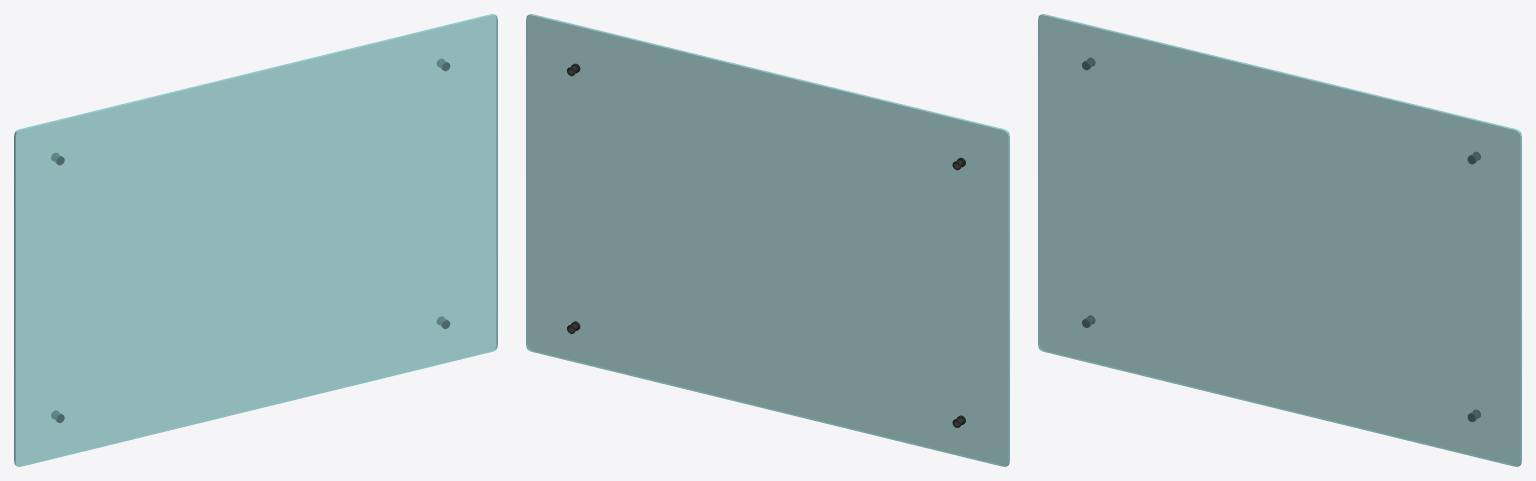
The model's file is WallWrittingBoard.FBX.
3 renders of one model, left to right at view 1: azimuth 30°, elevation 25°; view 2: azimuth 150°, elevation 25°; view 3: azimuth 330°, elevation 25°, orthographic.
Parts seen in each view (by area): view 1: WallWrittingBoard; view 2: WallWrittingBoard; view 3: WallWrittingBoard.
Part boxes in pixels (x1,y1,x2,y2): WallWrittingBoard: [14, 14, 497, 466]; WallWrittingBoard: [526, 14, 1009, 466]; WallWrittingBoard: [1038, 14, 1521, 466].
Bounding box in the file's own units: 18 × 12 × 0.4481.
